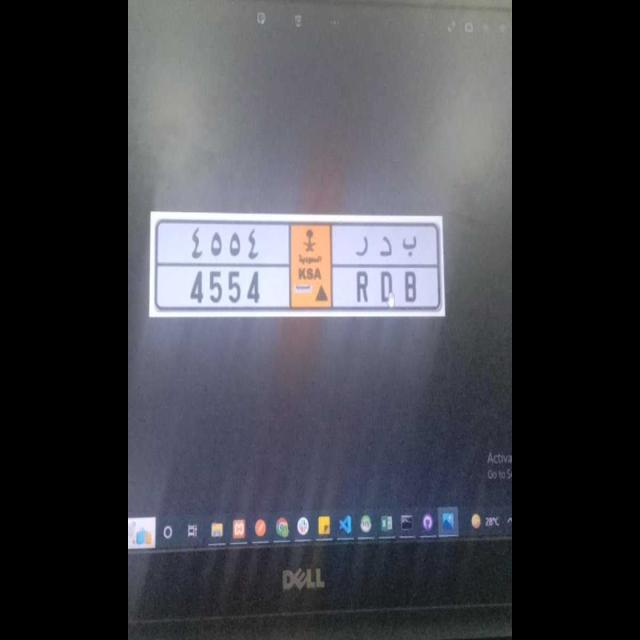license_plate: (150, 264, 443, 312)
